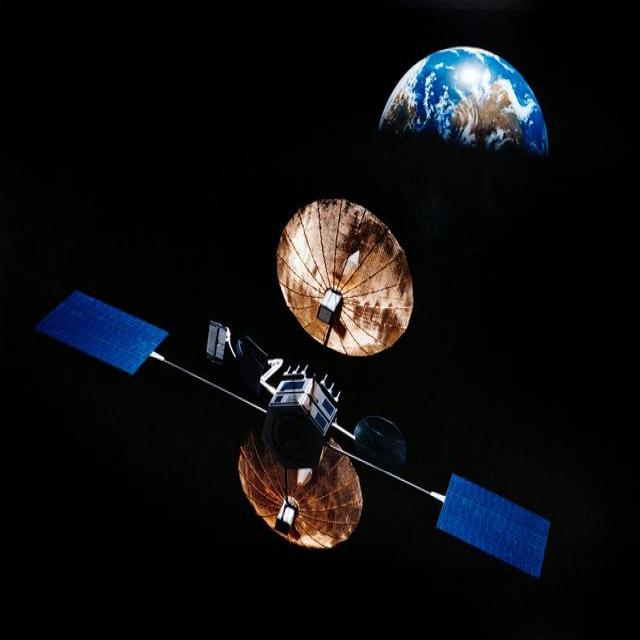satellite: (205, 321, 550, 578), (278, 199, 414, 357), (36, 291, 175, 374)
